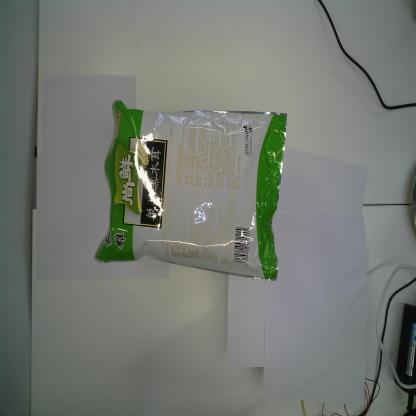Dried Food: (93, 99, 288, 282)
